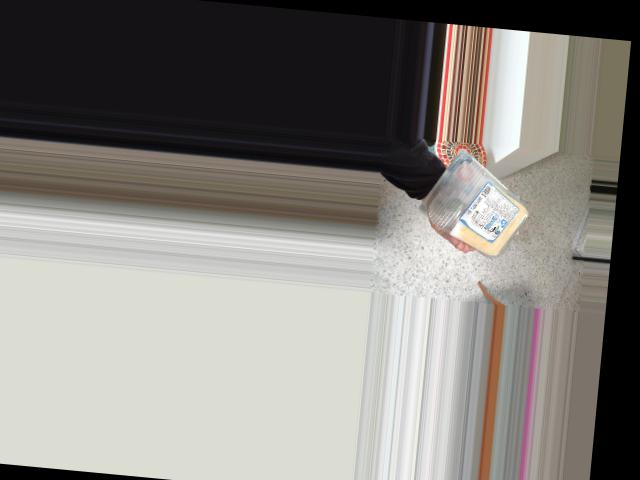cheese: (430, 156, 537, 247)
